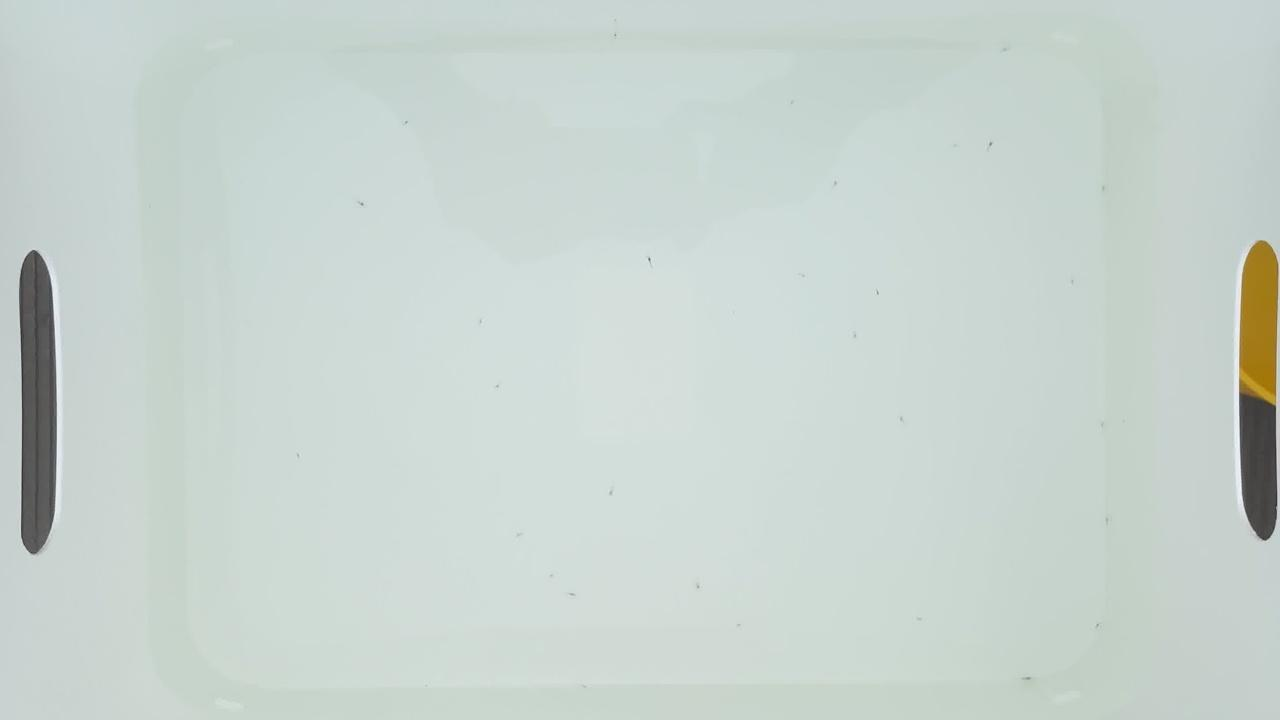shrimp: (357, 200, 369, 208), (399, 120, 411, 128), (612, 32, 624, 40), (646, 257, 658, 265), (987, 139, 999, 147), (1002, 44, 1014, 52), (1100, 184, 1112, 192), (1067, 280, 1079, 288), (873, 290, 885, 298), (831, 180, 843, 188), (789, 98, 801, 106), (851, 333, 863, 341), (897, 418, 909, 426), (1098, 420, 1110, 428), (476, 319, 488, 327), (494, 382, 506, 390), (294, 456, 306, 464), (568, 591, 580, 599), (547, 572, 559, 580), (516, 533, 528, 541), (606, 490, 618, 498), (693, 581, 705, 589), (1020, 673, 1032, 681), (914, 616, 926, 624), (1093, 622, 1105, 630), (1103, 515, 1115, 523)
